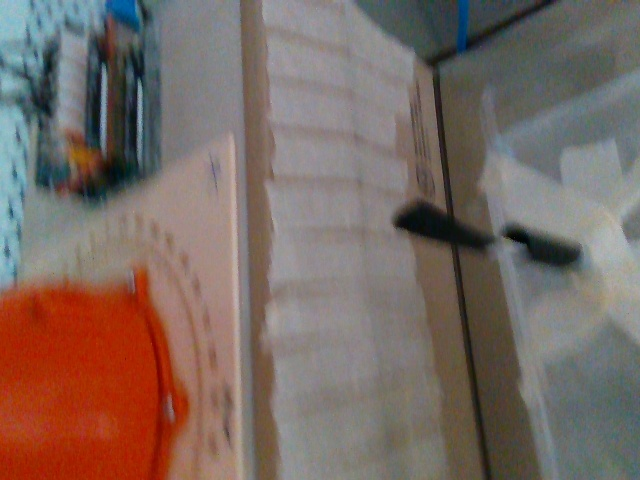test_strip: (388, 197, 525, 262)
